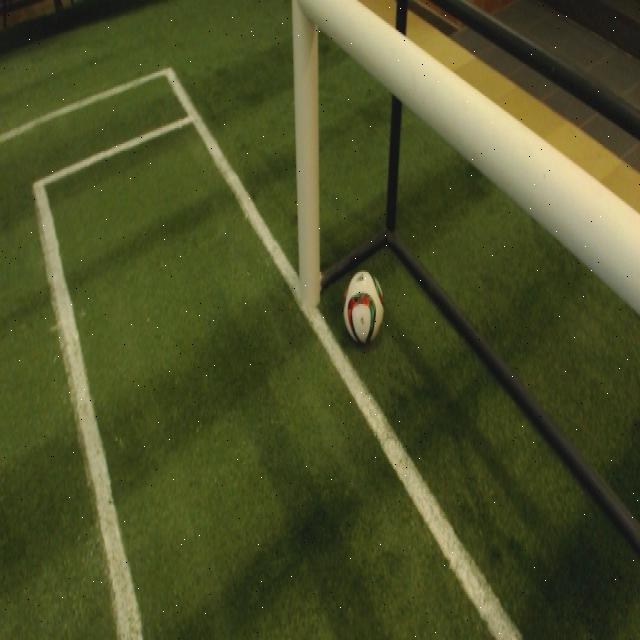ball: (344, 267, 387, 341)
goalpost: (293, 0, 321, 308)
